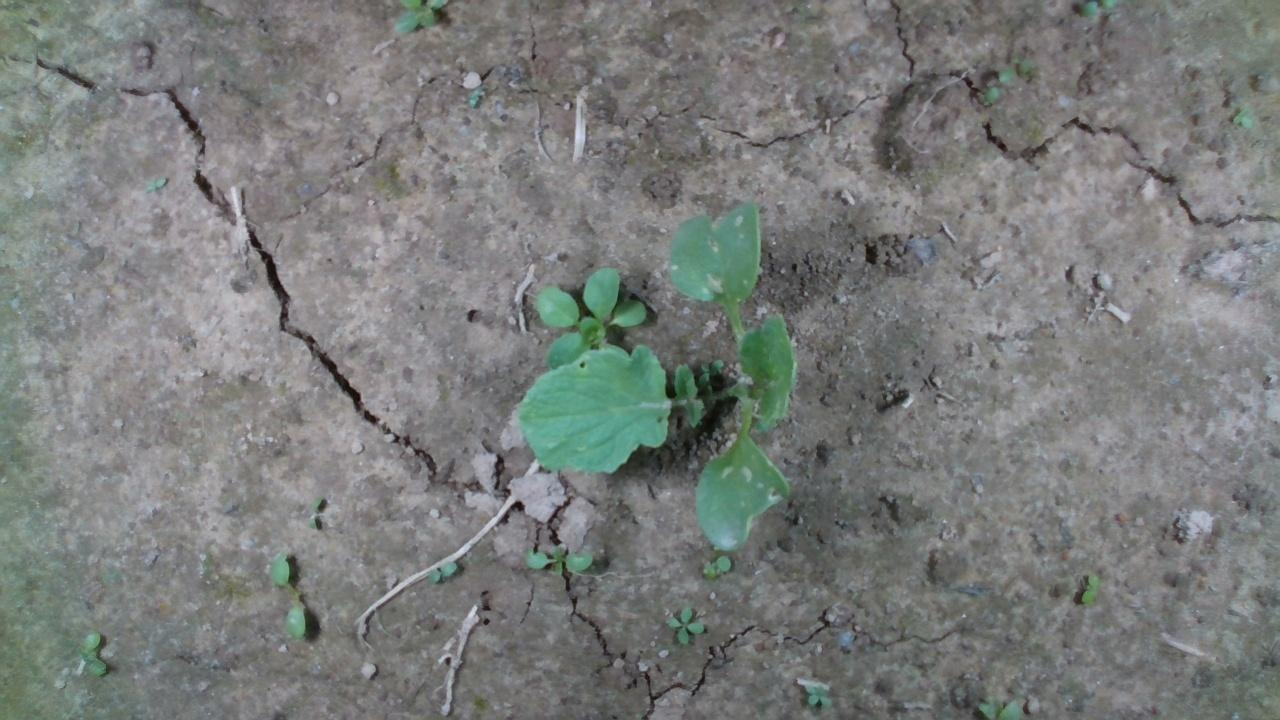weed: (268, 549, 305, 640), (524, 542, 593, 573), (665, 603, 705, 644), (75, 629, 107, 675), (982, 66, 1010, 103), (425, 558, 458, 584), (699, 552, 732, 578), (697, 356, 723, 386), (803, 681, 832, 707), (1080, 569, 1100, 604), (1230, 103, 1254, 129), (309, 493, 324, 531)
